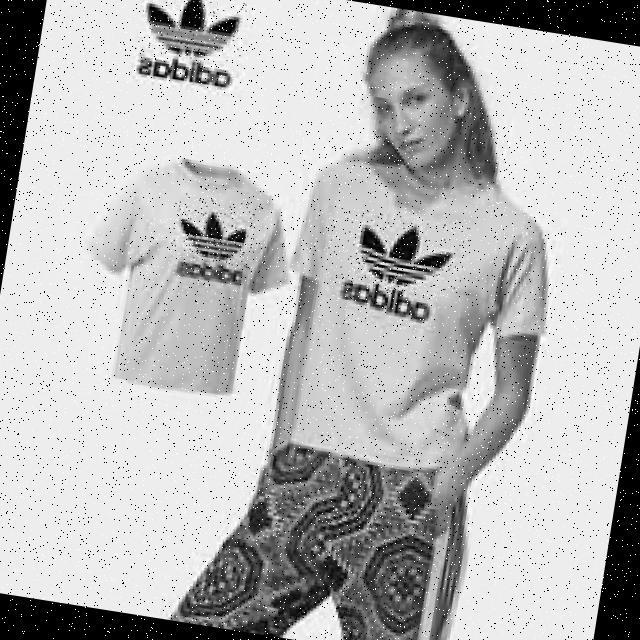Adidas: (319, 206, 471, 304), (133, 0, 252, 67), (167, 193, 262, 271)
